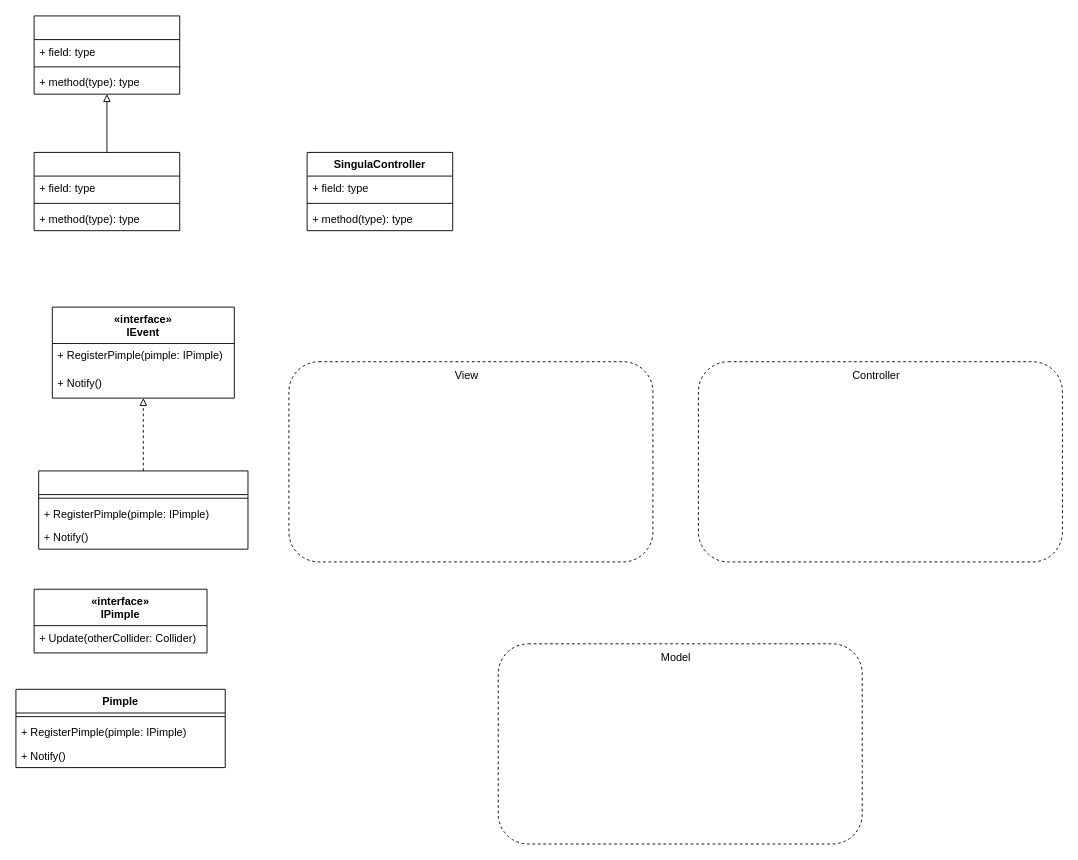
Image size: 1078x860. Some labels were removed from this diagram. The shapes that lost their labels are listed below. From the top down, each one's box as (x1, y1, x2, y2) in pixels, then its label:
(33, 15, 180, 94): MonoBehaviour
(33, 152, 180, 231): SingulaView
(38, 470, 248, 549): TriggerEvent
